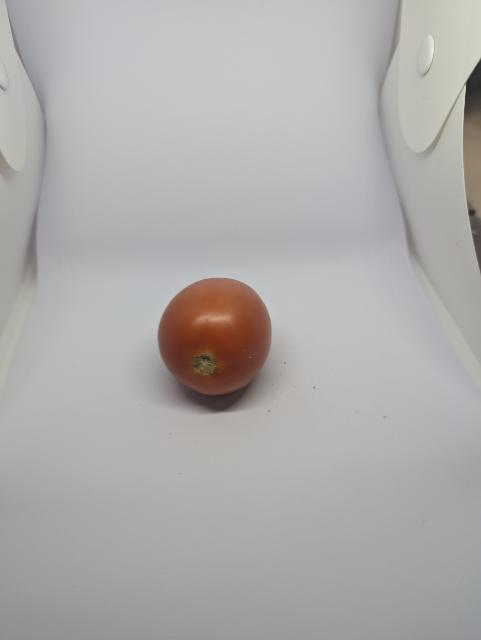red: (142, 266, 303, 410)
